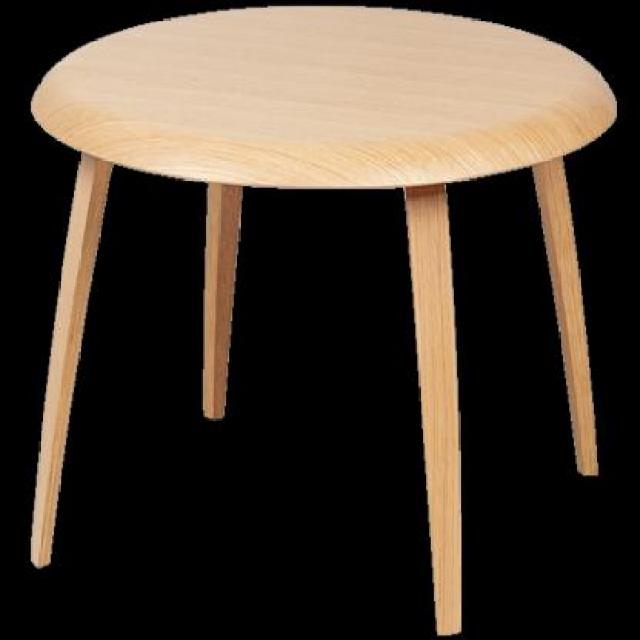table: (32, 7, 616, 636)
